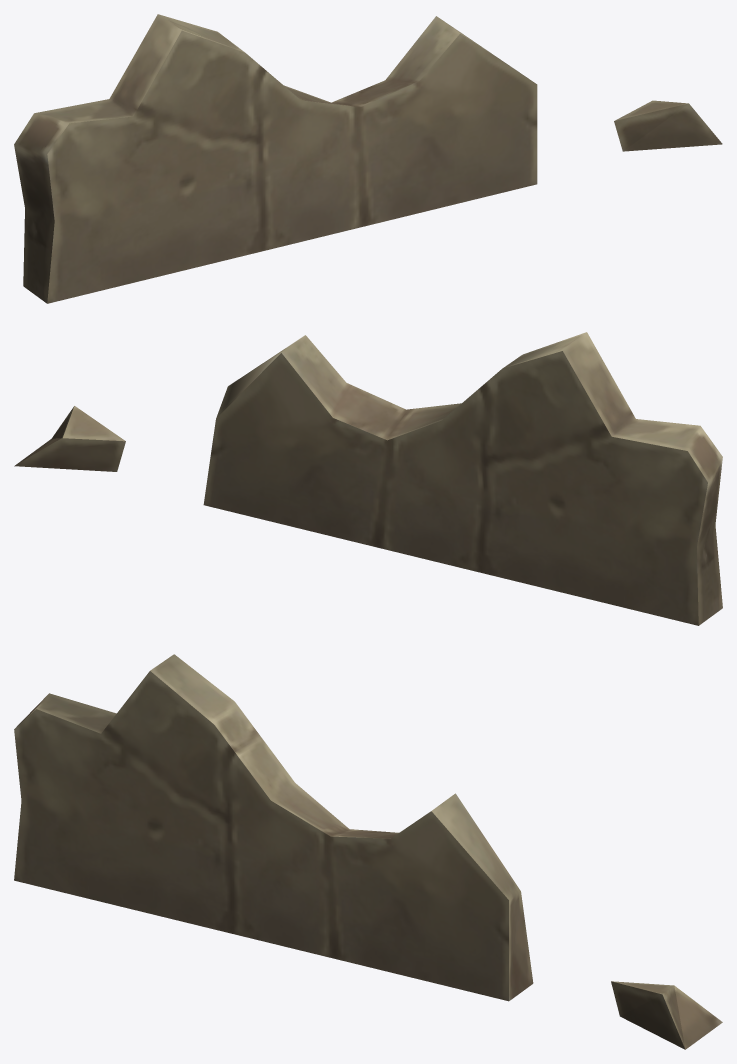
File: Stage_CaoYuan_ShiQiang02.FBX
3 views of the same model, one above another, from view 1: azimuth 30°, elevation 25°; view 2: azimuth 150°, elevation 25°; view 3: azimuth 330°, elevation 25° (orthographic).
Visible parts, largest first — view 1: Stage_CaoYuan_ShiQiang02; view 2: Stage_CaoYuan_ShiQiang02; view 3: Stage_CaoYuan_ShiQiang02.
Part boxes in pixels (<box>): Stage_CaoYuan_ShiQiang02: <box>14,14,722,303</box>; Stage_CaoYuan_ShiQiang02: <box>14,332,722,625</box>; Stage_CaoYuan_ShiQiang02: <box>14,654,722,1049</box>.
Size of the model in its own units: 273 by 92.3 by 25.86.
